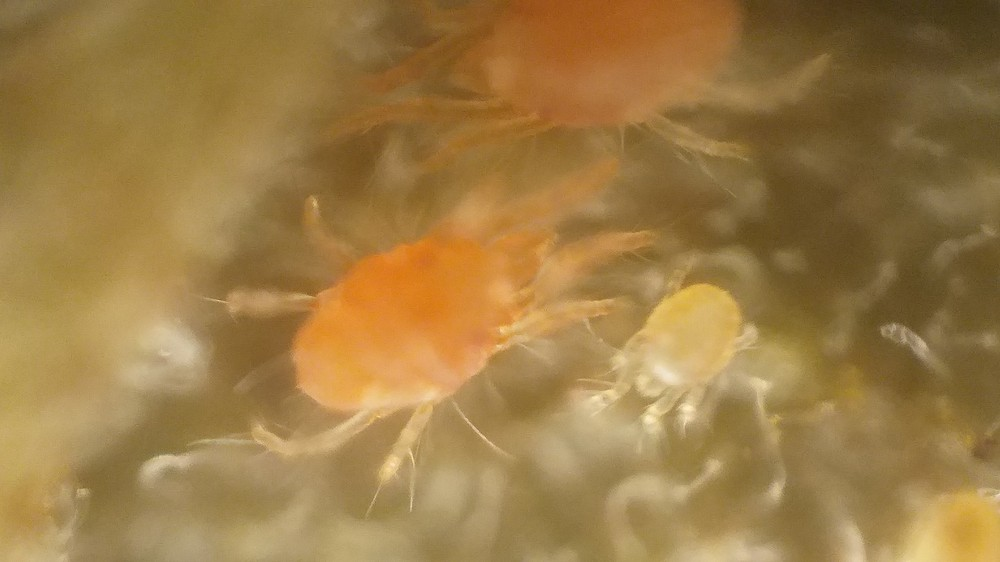Aracnido Rojo: (228, 166, 642, 492), (326, 3, 860, 172), (600, 260, 779, 464)
